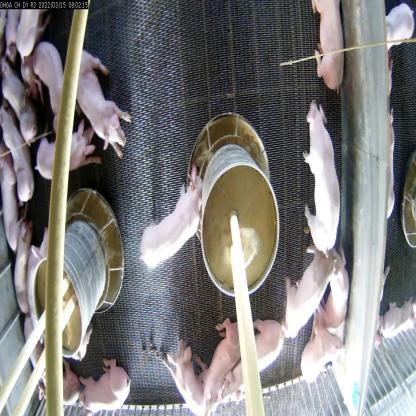Pig: (60, 28, 132, 162), (136, 155, 211, 282), (300, 103, 344, 262), (311, 248, 352, 392), (238, 323, 297, 412), (21, 127, 98, 195), (296, 0, 349, 98), (161, 323, 216, 415), (279, 240, 326, 343), (30, 28, 74, 134), (0, 95, 42, 202), (66, 350, 134, 416), (193, 317, 240, 411)
